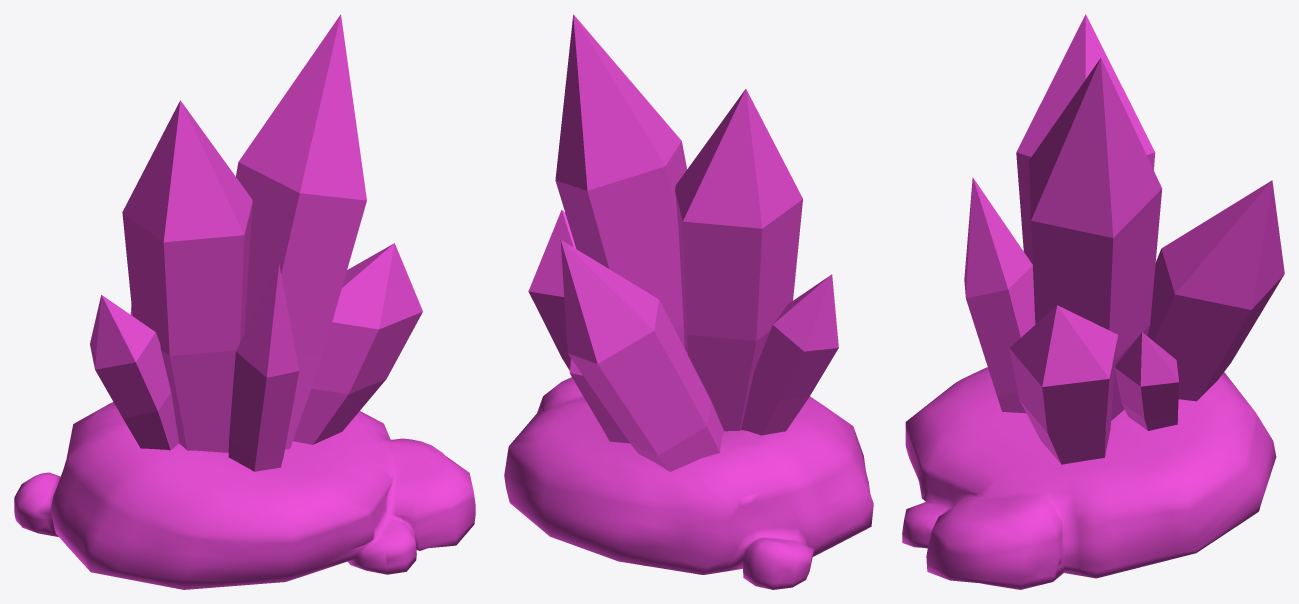
File: Fantasy_Small_Crystal.fbx
3 renders of one model, left to right at view 1: azimuth 30°, elevation 25°; view 2: azimuth 150°, elevation 25°; view 3: azimuth 270°, elevation 25°, orthographic. The views are drawn at different scales.
Parts seen in each view (by area): view 1: Crystals001; view 2: Crystals001; view 3: Crystals001.
Boxes of the visible parts, bbox=[...] form: Crystals001: bbox=[14, 14, 475, 589]; Crystals001: bbox=[504, 14, 873, 589]; Crystals001: bbox=[902, 14, 1284, 589].
Size of the model in its own units: 11.79 by 15.13 by 10.48.
